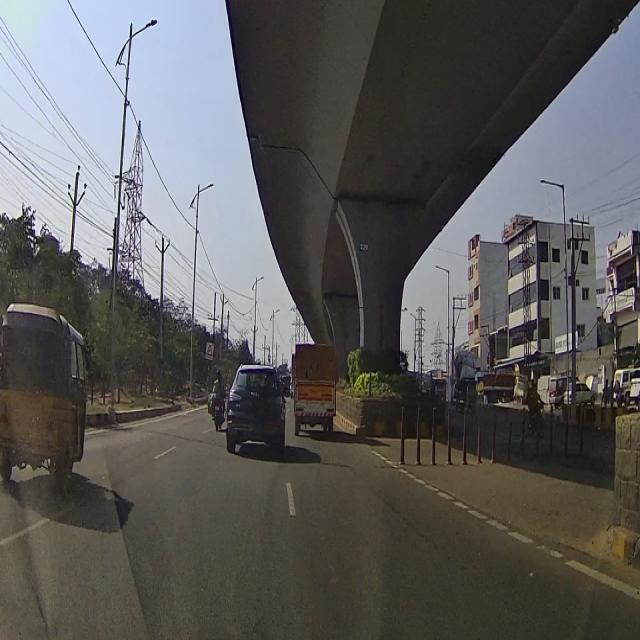right-hand-curve: (206, 341, 214, 359)
